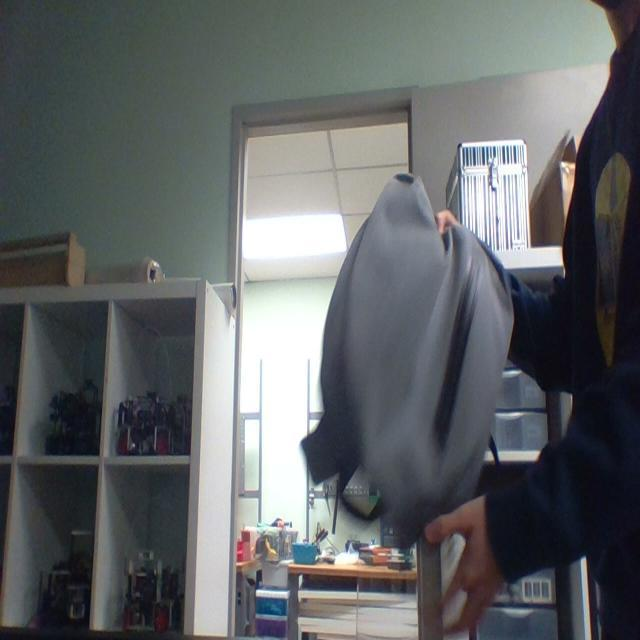Backpacks: (308, 180, 514, 574)
